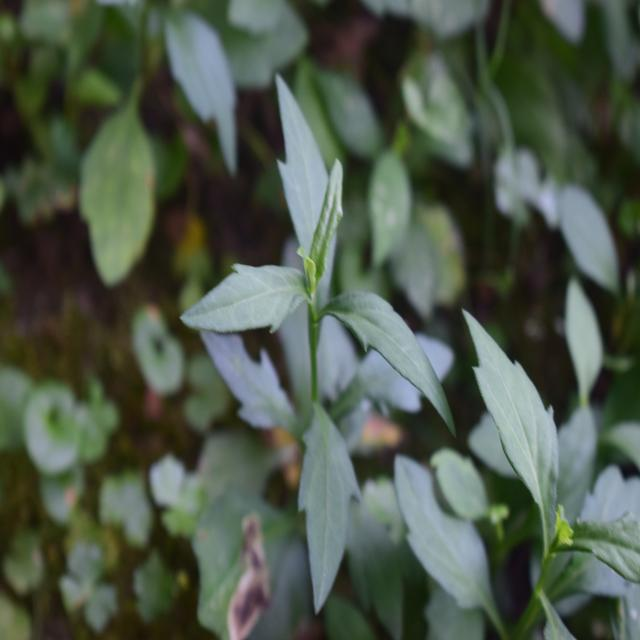Indian aster: (195, 114, 448, 554), (440, 297, 634, 634)
